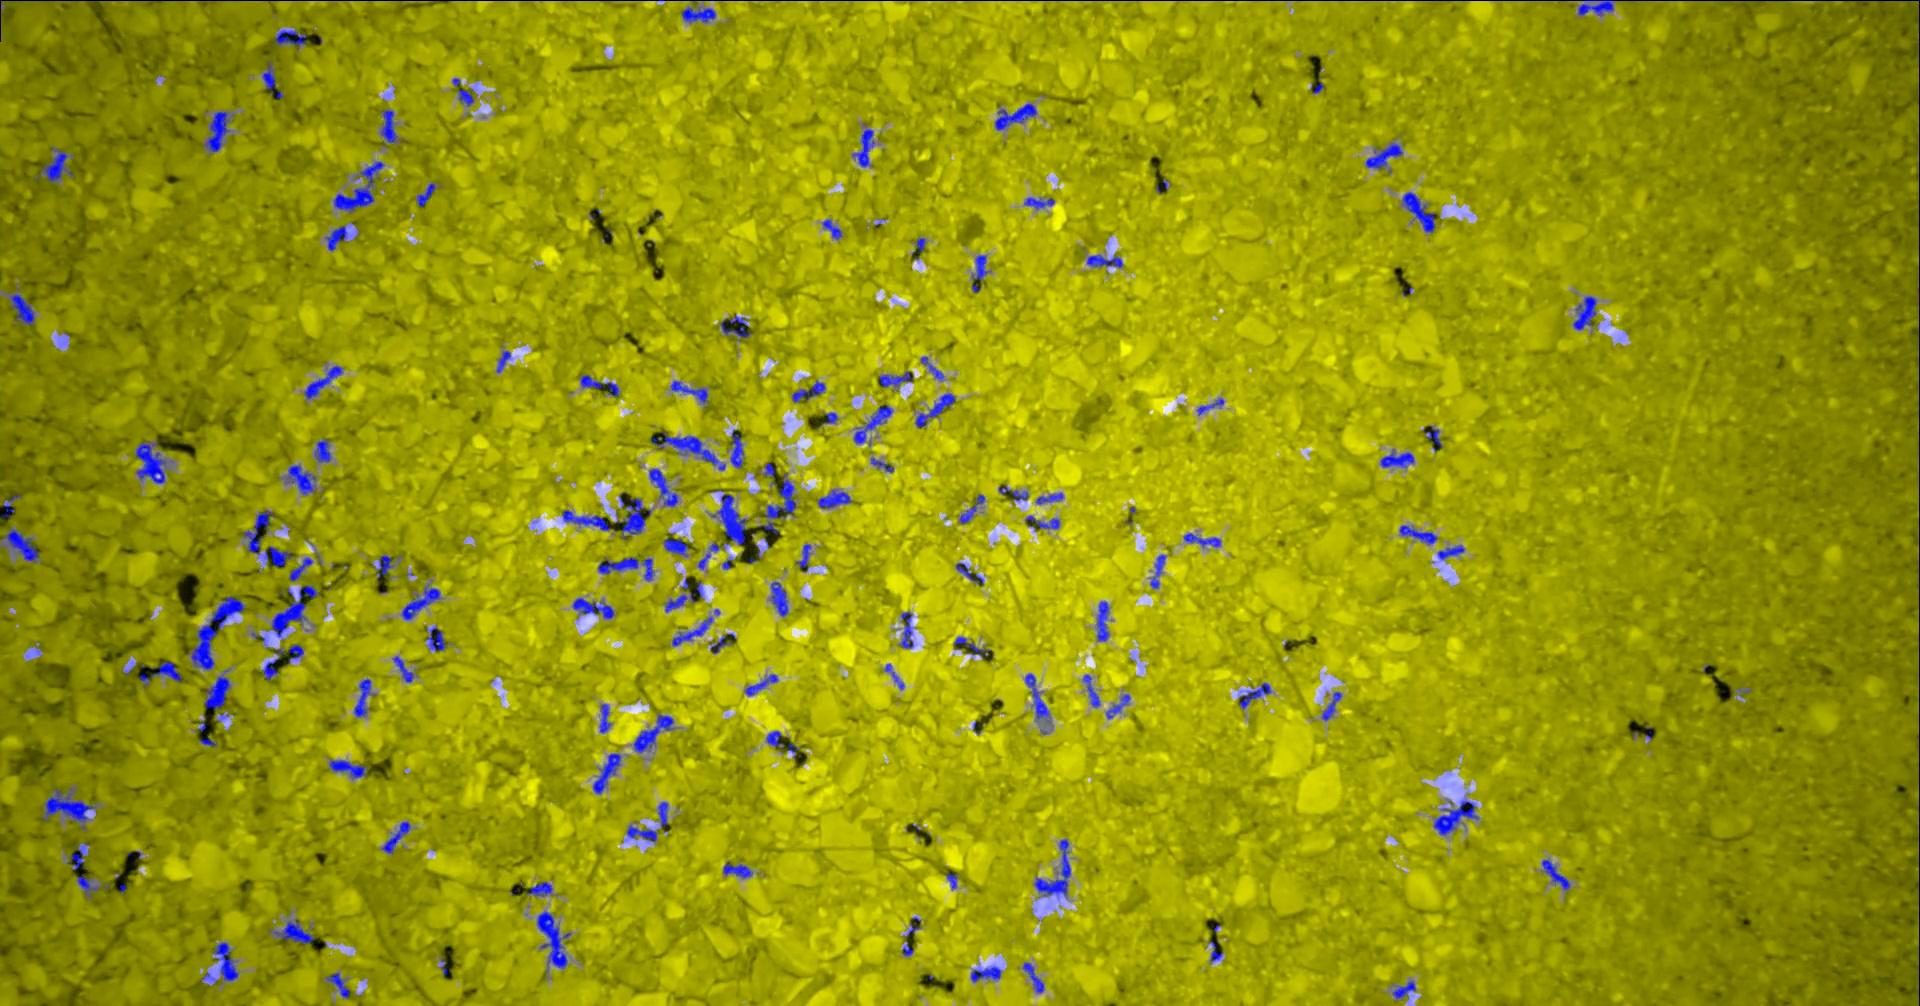ant: (651, 431, 725, 470), (333, 161, 383, 211), (270, 586, 319, 636), (42, 789, 95, 828), (759, 475, 795, 533), (1034, 840, 1070, 895), (536, 911, 570, 968), (711, 489, 745, 544), (632, 714, 673, 752), (1432, 800, 1477, 835), (853, 404, 891, 443), (262, 644, 303, 680), (1401, 191, 1435, 232), (916, 392, 955, 427), (1023, 673, 1050, 723), (0, 527, 38, 561), (401, 584, 439, 619), (135, 441, 165, 483), (243, 511, 273, 553), (597, 558, 653, 580), (615, 495, 644, 539), (303, 365, 342, 398), (670, 616, 712, 645), (994, 103, 1036, 130), (648, 467, 677, 506), (592, 753, 620, 793), (39, 149, 72, 180), (138, 661, 182, 685), (204, 111, 229, 151), (273, 918, 314, 942), (212, 942, 237, 981), (381, 821, 410, 854), (766, 730, 797, 760), (580, 373, 618, 398), (571, 597, 613, 619), (563, 511, 610, 530), (284, 465, 315, 494), (1365, 144, 1402, 168), (204, 674, 230, 709), (1542, 859, 1570, 889), (1572, 295, 1596, 329), (852, 128, 874, 166), (1238, 682, 1270, 708), (952, 636, 992, 657), (262, 61, 283, 98), (670, 380, 707, 401), (9, 293, 34, 324), (959, 494, 984, 523), (791, 380, 825, 401), (1399, 525, 1437, 544), (719, 315, 750, 337), (353, 678, 371, 716), (328, 760, 366, 777), (744, 674, 777, 695), (664, 591, 695, 612), (1380, 448, 1415, 467), (817, 489, 851, 508), (955, 561, 983, 584), (770, 580, 787, 616), (1022, 962, 1043, 992), (264, 546, 293, 567), (1321, 691, 1341, 720), (380, 109, 397, 142), (663, 533, 688, 556), (326, 972, 349, 997), (452, 77, 472, 105), (919, 356, 943, 379), (1106, 694, 1129, 718), (325, 225, 347, 250), (1082, 674, 1098, 708), (1577, 0, 1613, 15), (274, 30, 305, 48), (392, 655, 413, 682), (681, 6, 715, 22), (290, 558, 312, 580), (971, 254, 985, 291), (1183, 533, 1220, 547), (67, 842, 86, 869), (877, 371, 910, 386), (1096, 601, 1109, 640), (0, 493, 20, 517), (425, 626, 446, 650), (730, 429, 743, 467), (884, 663, 903, 688), (1025, 514, 1059, 528), (1150, 554, 1164, 588), (1086, 254, 1123, 267), (626, 826, 657, 841), (417, 183, 436, 207), (1197, 398, 1223, 415), (900, 611, 913, 647), (76, 875, 98, 895), (1390, 981, 1415, 998), (970, 967, 1001, 981), (1425, 426, 1441, 451), (796, 542, 810, 572), (723, 862, 752, 876), (822, 218, 841, 239), (1437, 544, 1463, 559), (710, 635, 731, 653), (314, 438, 330, 461), (376, 555, 392, 577), (526, 882, 551, 895), (1023, 197, 1054, 208), (870, 457, 893, 473), (599, 702, 610, 733), (1035, 492, 1062, 503), (497, 351, 510, 372), (1209, 940, 1223, 962), (905, 916, 919, 936), (657, 801, 667, 826), (763, 462, 775, 483), (912, 238, 924, 253), (822, 412, 837, 424), (945, 873, 956, 889), (1011, 490, 1029, 500)
